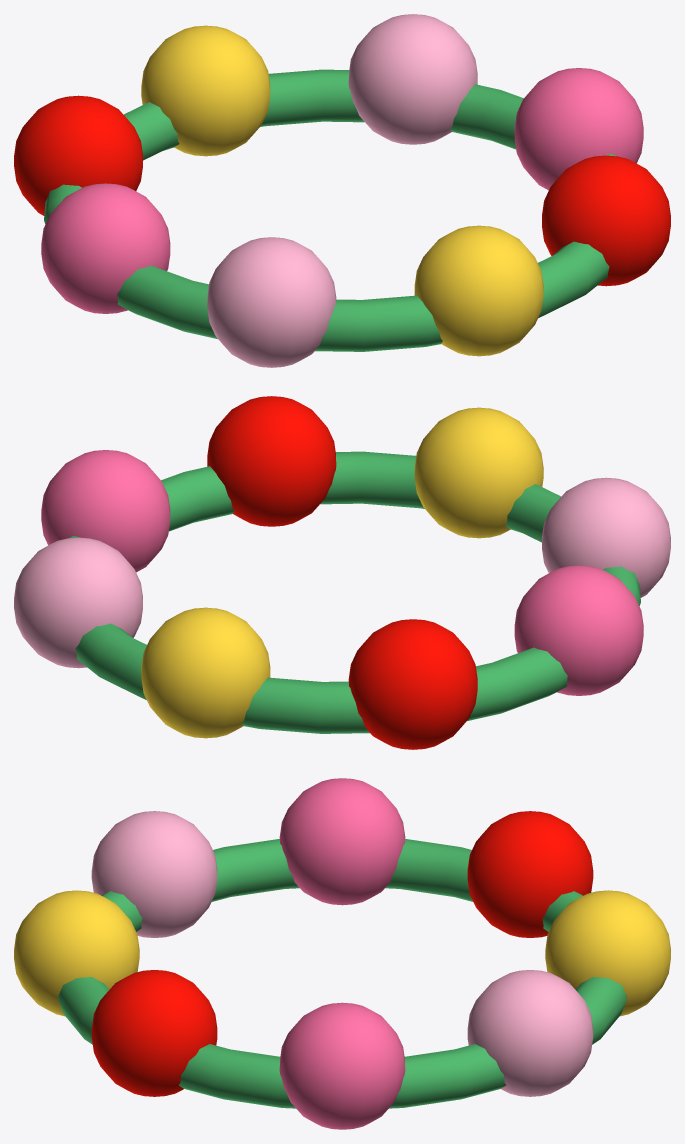
File: head_cute_0.glb
The picture shows the model from 3 angles, top to bottom: view 1: azimuth 30°, elevation 25°; view 2: azimuth 150°, elevation 25°; view 3: azimuth 270°, elevation 25°; orthographic projection. The views are drawn at different scales.
Bounding box in the file's own units: 0.6665 × 0.129 × 0.6645.
